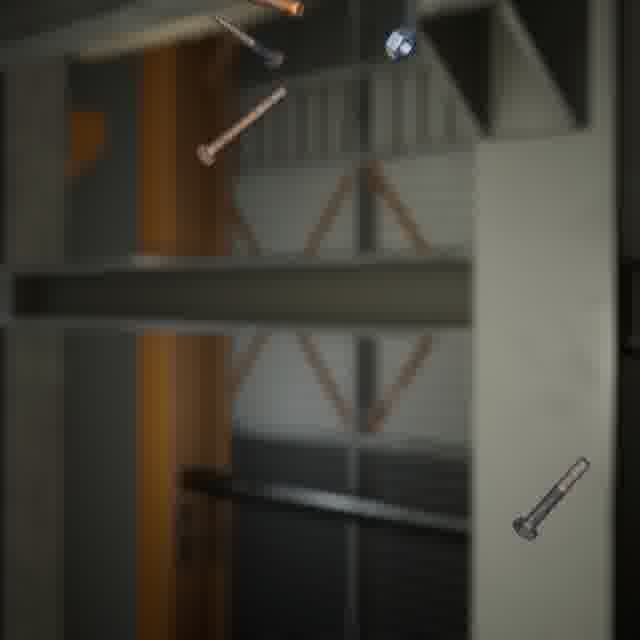bolt: (192, 81, 293, 170), (507, 452, 594, 545), (206, 9, 288, 74), (235, 0, 308, 22)
nut: (380, 22, 421, 65)
